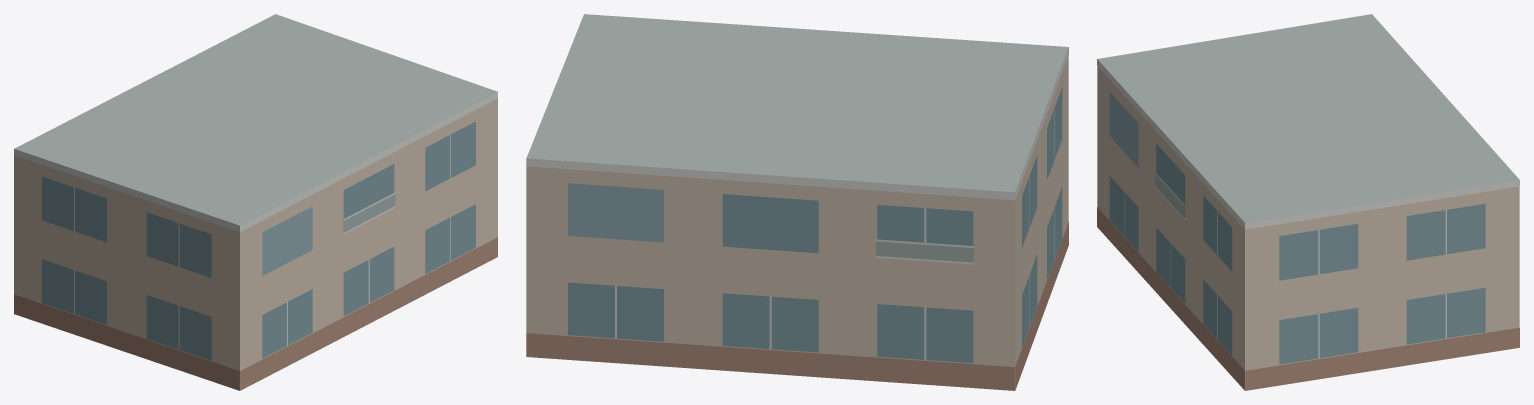
The model's file is survey-upis-32842323.glb.
The picture shows the model from 3 angles, left to right: view 1: azimuth 30°, elevation 25°; view 2: azimuth 150°, elevation 25°; view 3: azimuth 270°, elevation 25°; orthographic projection. The views are drawn at different scales.
Parts seen in each view (by area): view 1: survey-upis-32842323.tmp; view 2: survey-upis-32842323.tmp; view 3: survey-upis-32842323.tmp.
Boxes of the visible parts, x1,y1,x2,y2 form: survey-upis-32842323.tmp: (14,14,497,390); survey-upis-32842323.tmp: (526,14,1068,390); survey-upis-32842323.tmp: (1097,14,1519,390).
Bounding box in the file's own units: 16.28 × 6.1 × 13.92.
